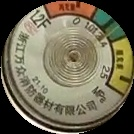green: (92, 8, 127, 46)
needle: (99, 25, 121, 43)
red: (44, 2, 97, 22)
yellow: (109, 38, 134, 100)
